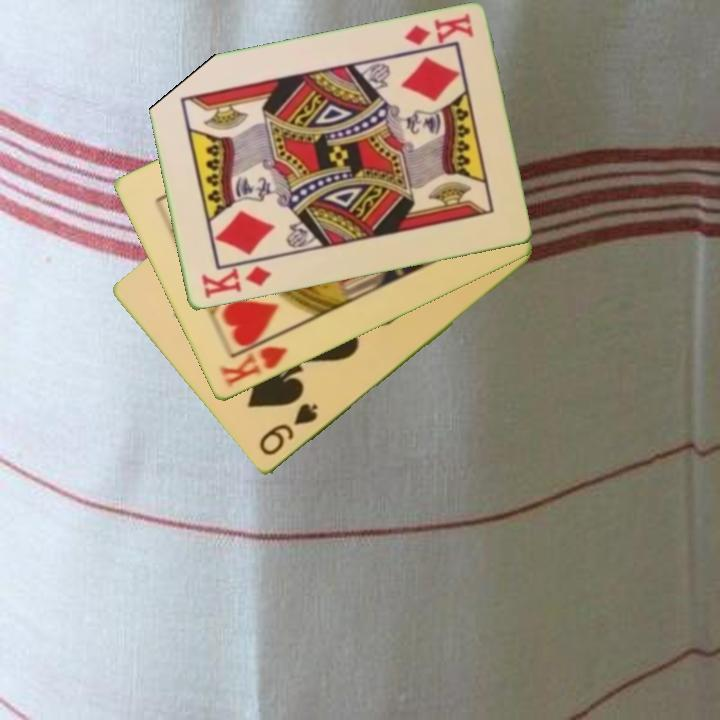9s: (255, 400, 321, 460)
Kd: (197, 263, 275, 302), (400, 10, 476, 49)
Kh: (216, 330, 290, 392)
